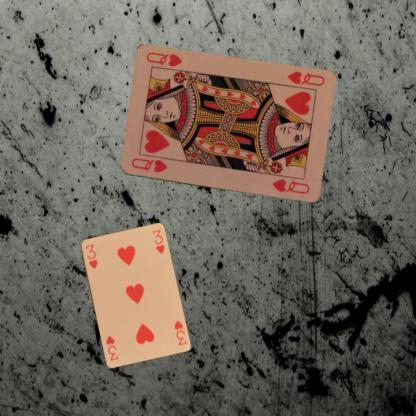3h: (83, 241, 99, 270), (172, 318, 188, 346)
Qh: (284, 69, 326, 88), (128, 156, 169, 174)
